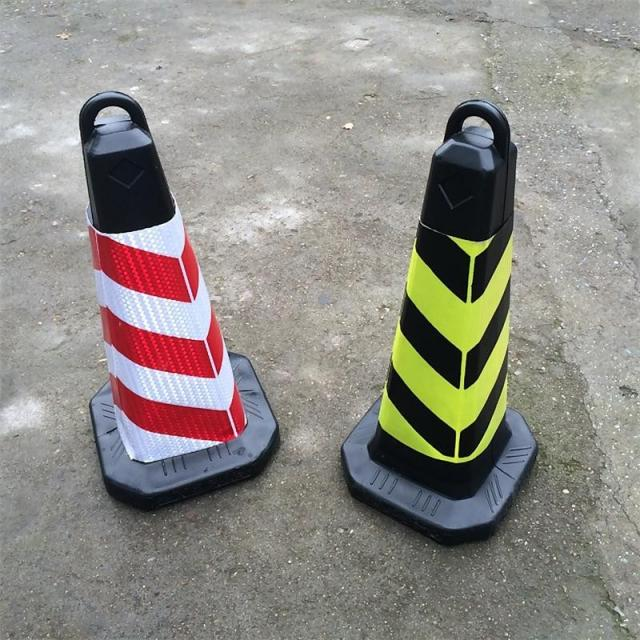reflective_cone: (70, 83, 284, 510), (340, 98, 542, 542)
